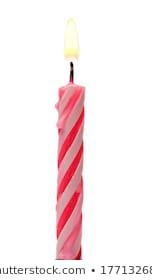fire: (61, 15, 79, 63)
